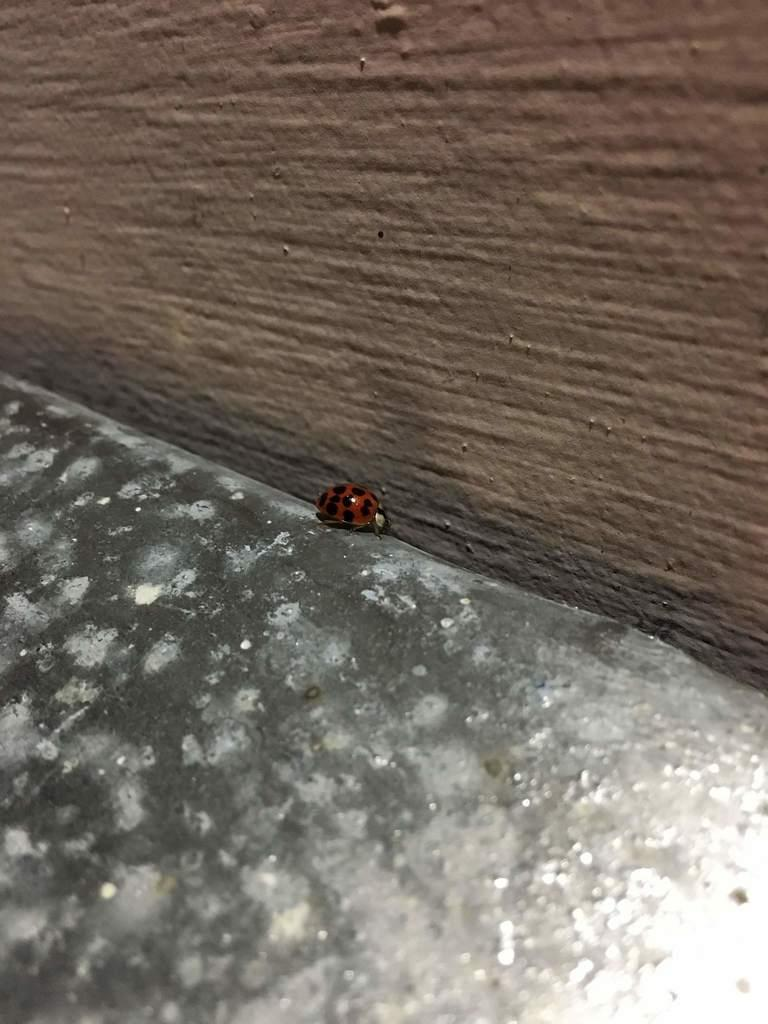ladybug: (314, 482, 393, 543)
